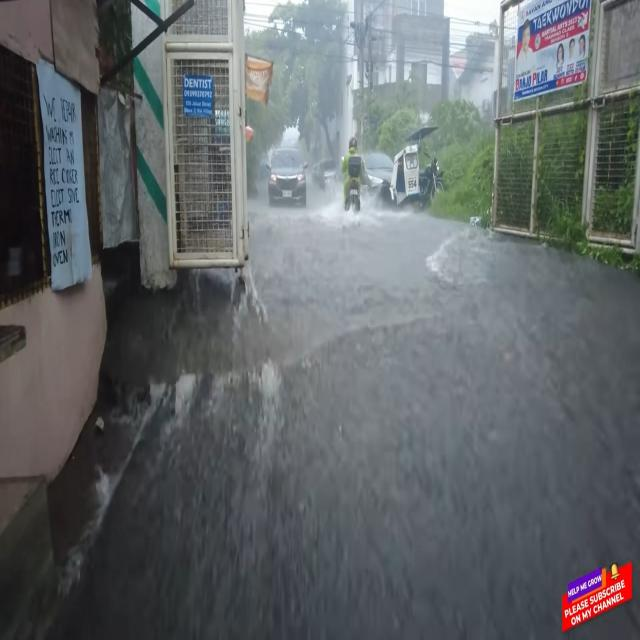full: (346, 132, 361, 156)
